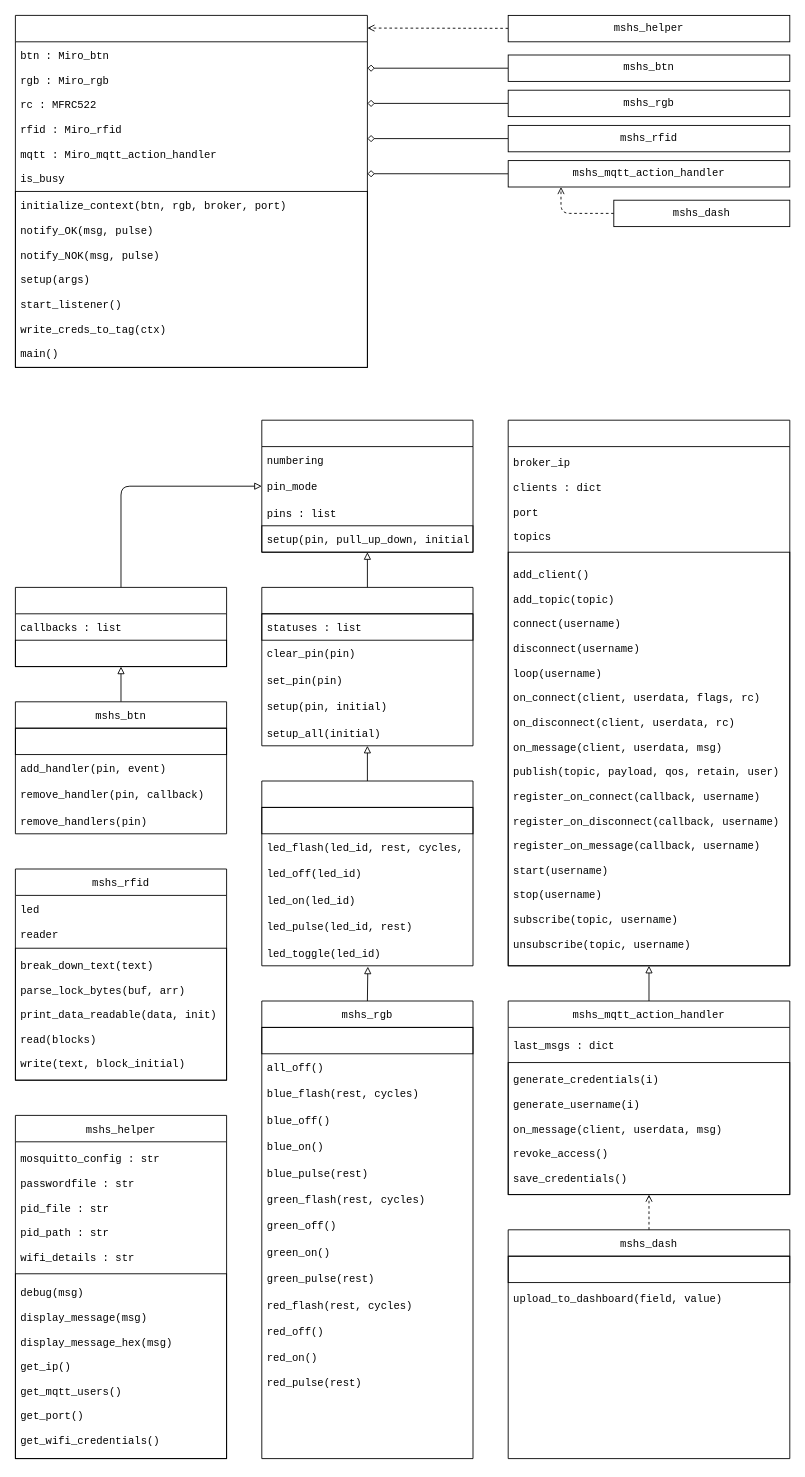
This 805x1477 diagram has some shape labels left out. The shapes that lost their labels are listed below. From the top down, each one's box as (x1, y1, x2, y2) in pixels, then its label:
(15, 15, 367, 367): mshs_issue_credentials
(261, 419, 473, 552): mshs_gpio
(15, 587, 227, 667): mshs_input
(15, 639, 227, 667): setup_all(pull_up_down)
(261, 587, 473, 746): mshs_output
(507, 419, 790, 966): mshs_mqtt_client_handler
(15, 727, 227, 755): events : list
(261, 780, 473, 966): mshs_led
